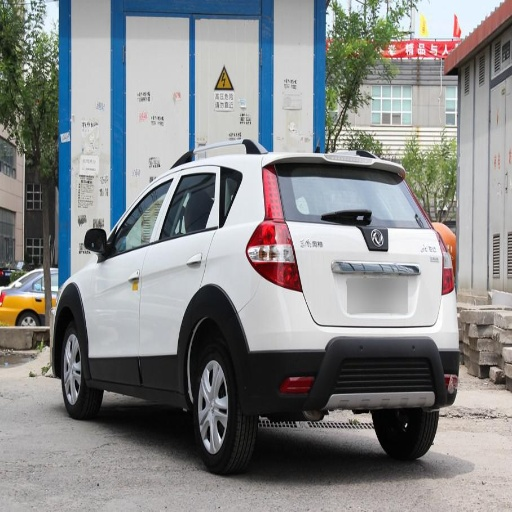back_bumper: (236, 273, 453, 421)
back_glass: (281, 167, 425, 225)
back_left_door: (142, 167, 220, 387)
front_left_door: (92, 175, 176, 382)
tailgate: (278, 175, 442, 321)
